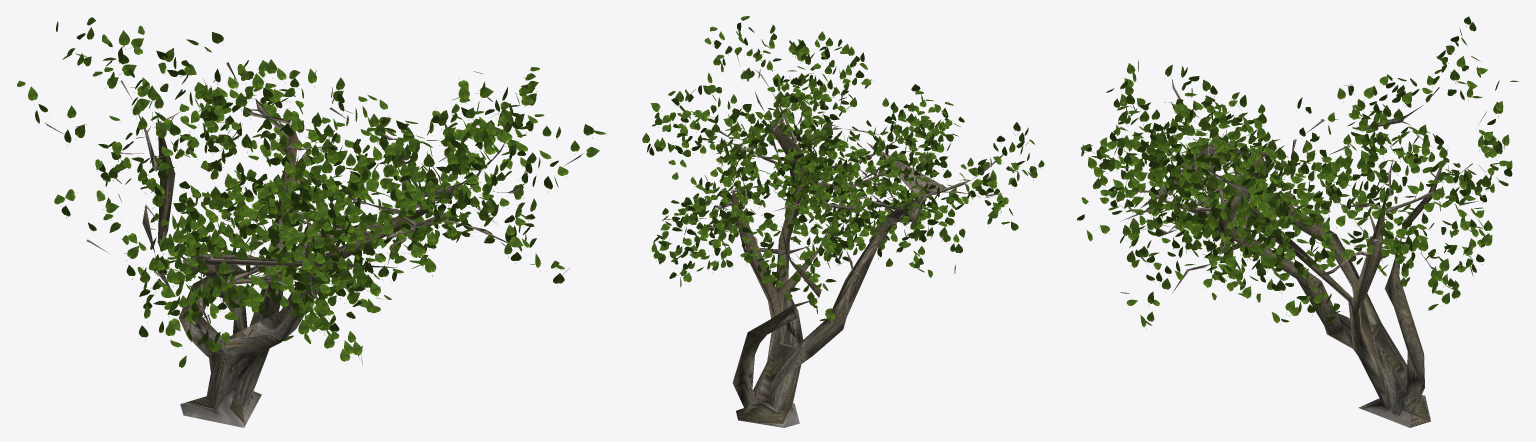
Rendered from n_laubbaum.glb.
The picture shows the model from 3 angles, left to right: view 1: azimuth 30°, elevation 25°; view 2: azimuth 150°, elevation 25°; view 3: azimuth 270°, elevation 25°; orthographic projection. The views are drawn at different scales.
Visible parts, largest first — view 1: island_tree_02-1, island_tree_02-0, island_tree_02-2; view 2: island_tree_02-1, island_tree_02-0, island_tree_02-2; view 3: island_tree_02-1, island_tree_02-0, island_tree_02-2.
Boxes of the visible parts, <box> form: island_tree_02-1: <box>17,17,605,367</box>; island_tree_02-0: <box>142,118,471,427</box>; island_tree_02-2: <box>45,62,582,328</box>; island_tree_02-1: <box>642,16,1044,325</box>; island_tree_02-0: <box>731,113,921,427</box>; island_tree_02-2: <box>689,55,1003,260</box>; island_tree_02-1: <box>1077,16,1518,328</box>; island_tree_02-0: <box>1207,147,1448,427</box>; island_tree_02-2: <box>1120,79,1486,293</box>.
Size of the model in its own units: 172 by 150 by 178.
3 materials, 3 textured.
